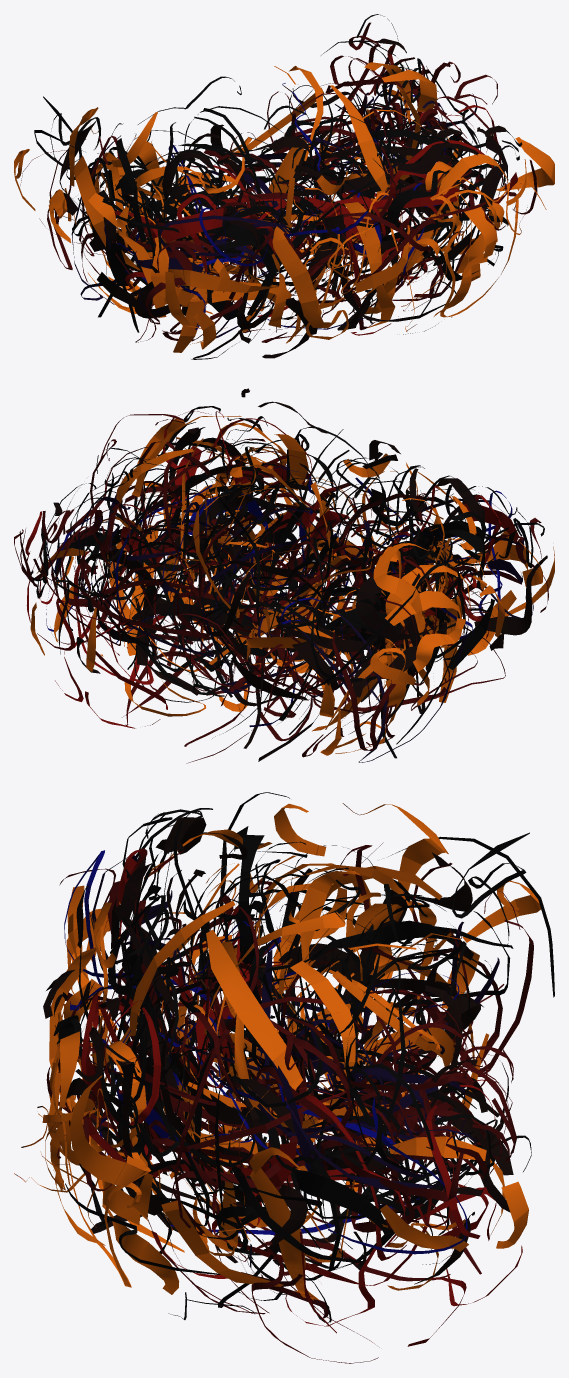
The model's file is Convergence.glb.
3 views of the same model, one above another, from view 1: azimuth 30°, elevation 25°; view 2: azimuth 150°, elevation 25°; view 3: azimuth 270°, elevation 25° (orthographic). The views are drawn at different scales.
Visible parts, largest first — view 1: Untitled_14_TaperedMarker_geo_TaperedMarker_0_Baked; view 2: Untitled_14_TaperedMarker_geo_TaperedMarker_0_Baked; view 3: Untitled_14_TaperedMarker_geo_TaperedMarker_0_Baked.
Part boxes in pixels (bbox=[...]): Untitled_14_TaperedMarker_geo_TaperedMarker_0_Baked: bbox=[14, 14, 554, 359]; Untitled_14_TaperedMarker_geo_TaperedMarker_0_Baked: bbox=[14, 388, 554, 763]; Untitled_14_TaperedMarker_geo_TaperedMarker_0_Baked: bbox=[14, 792, 554, 1363].
Bounding box in the file's own units: 2.42 × 1.55 × 1.91.
1 material, 1 textured.
